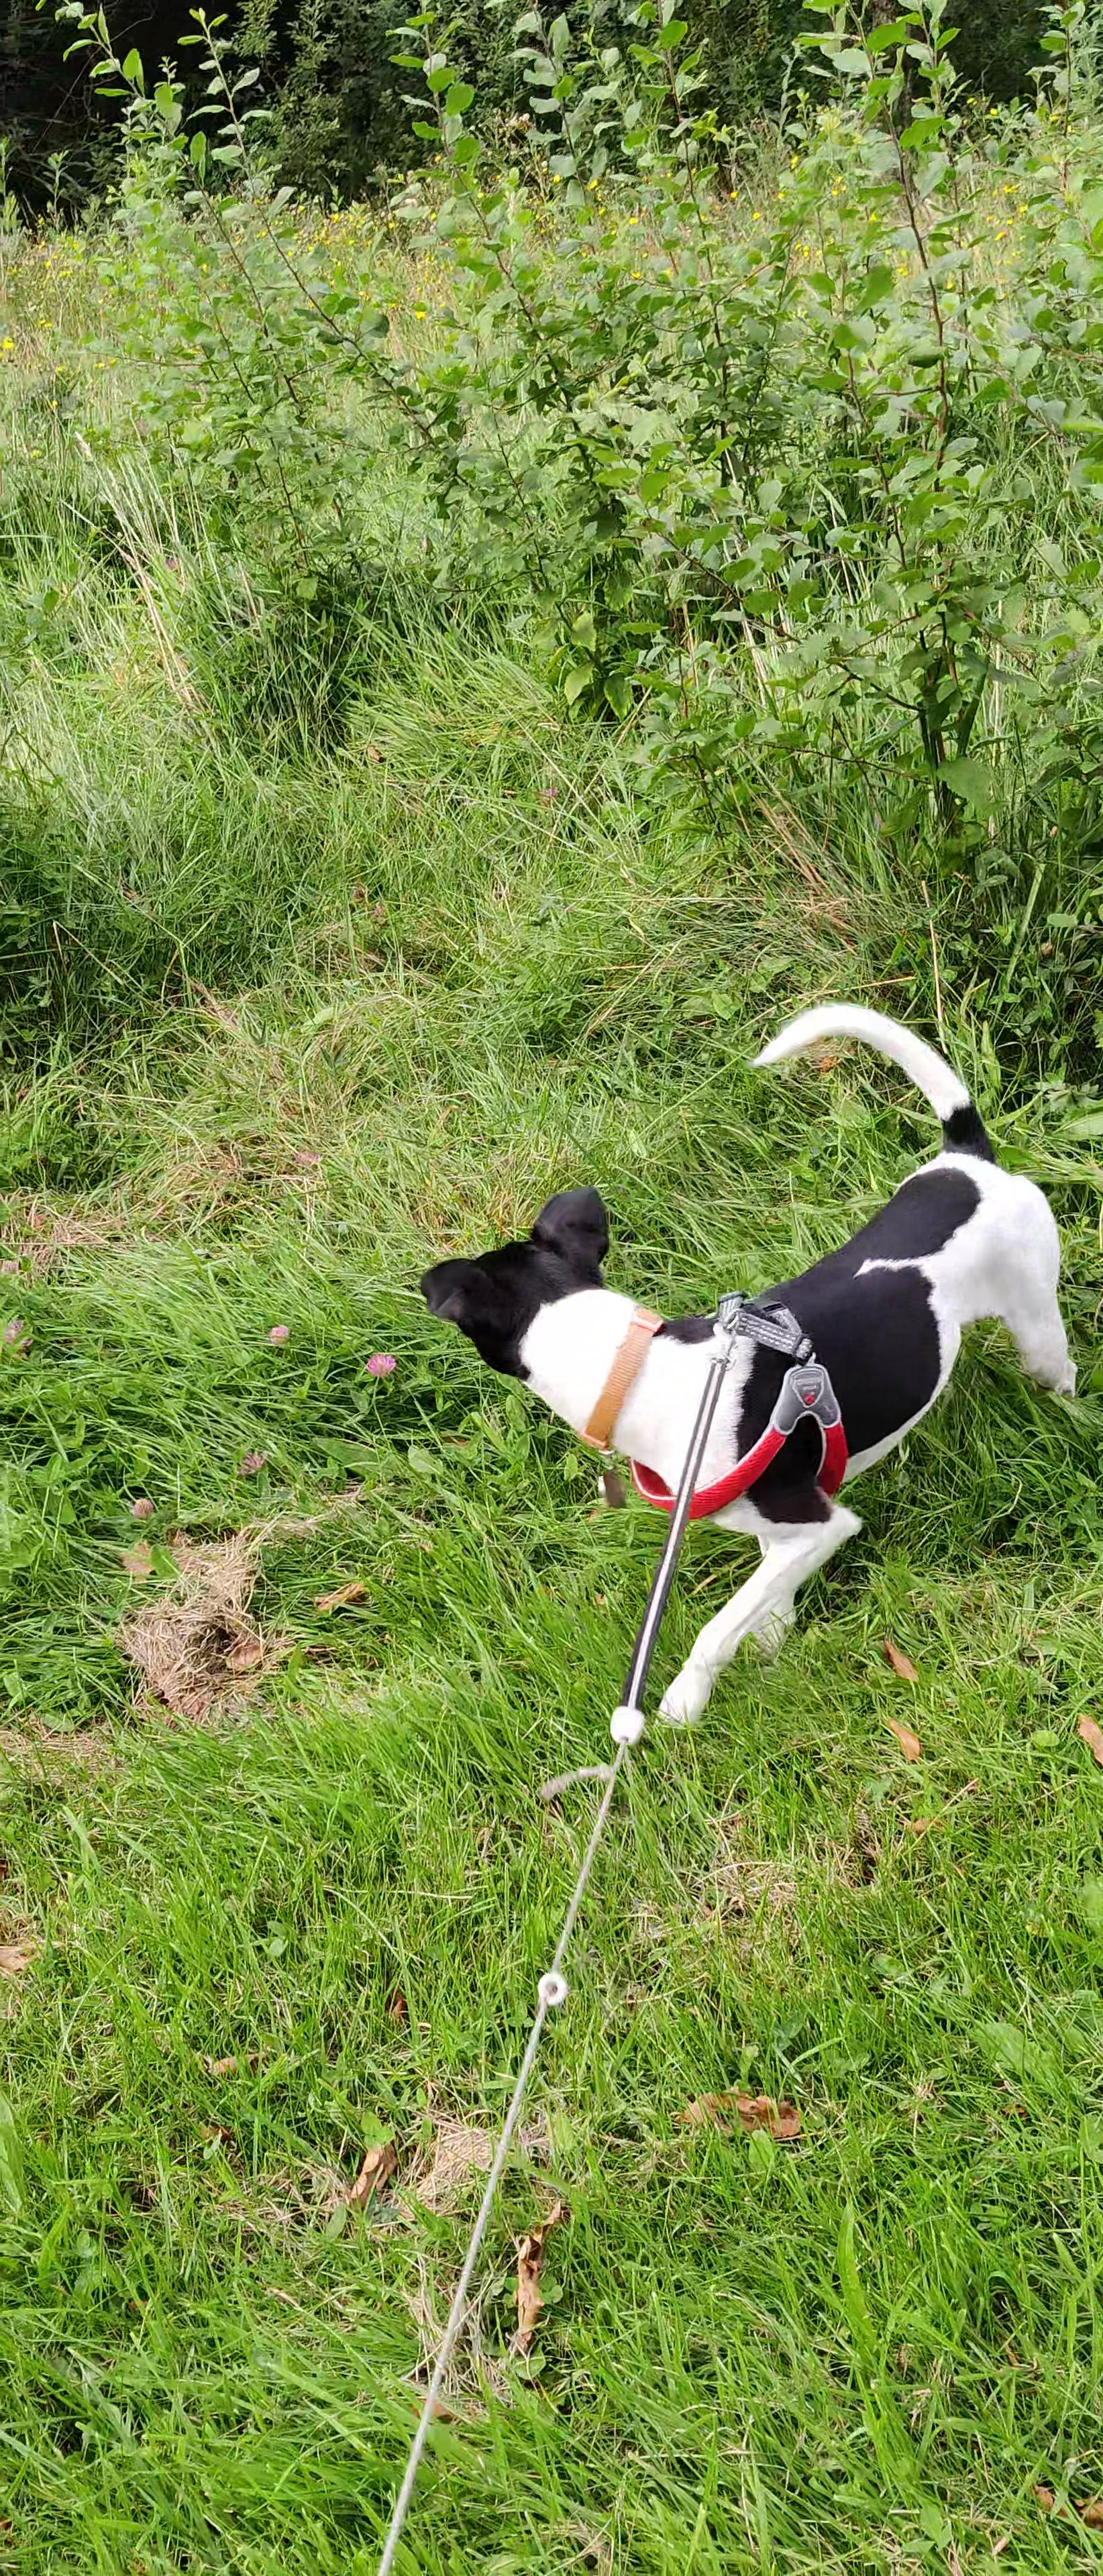Dog: (409, 996, 1083, 1736)
